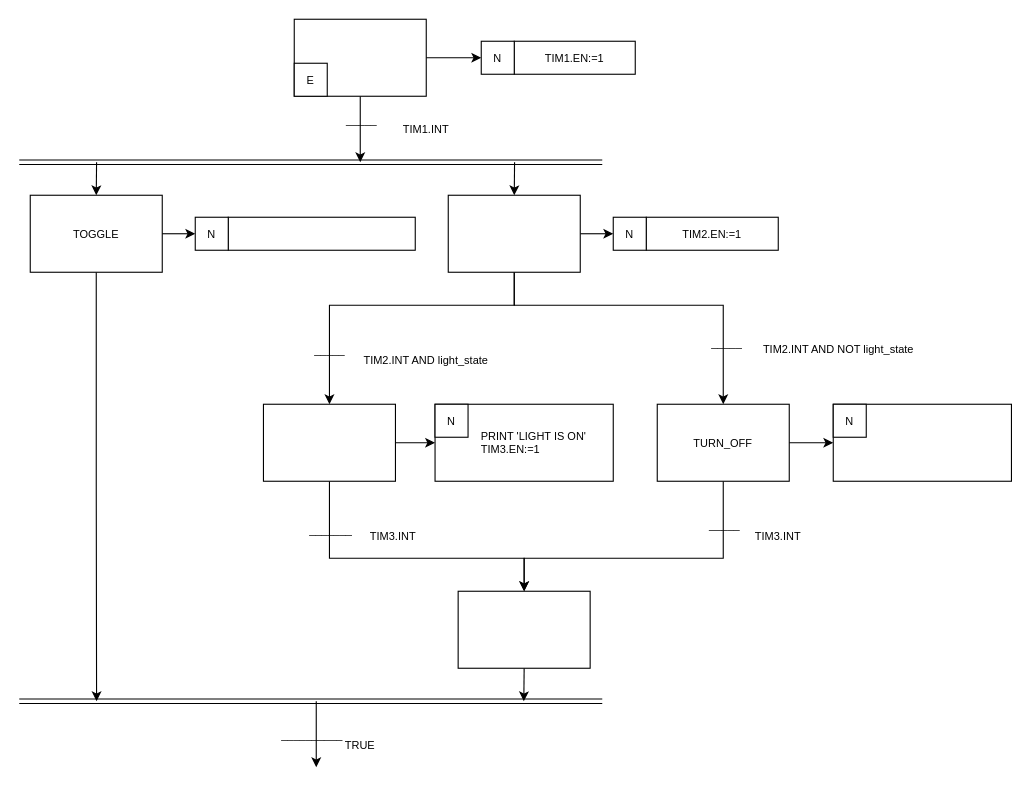
The diagram is 1031 pixels wide and 795 high, and some of its shapes have lost their labels. The shapes that lost their labels are listed below. From the top down, each one's box as (x1, y1, x2, y2) in pixels, then its label:
(293, 18, 426, 96): START
(227, 216, 415, 250): light_state := NOT light_state
(447, 194, 580, 272): WAIT TOGGLE
(262, 403, 395, 481): TURN_ON
(832, 403, 1011, 481): PRINT 'LIGHT IS OFF' TIM3.EN:=1
(457, 590, 590, 668): NEXT
